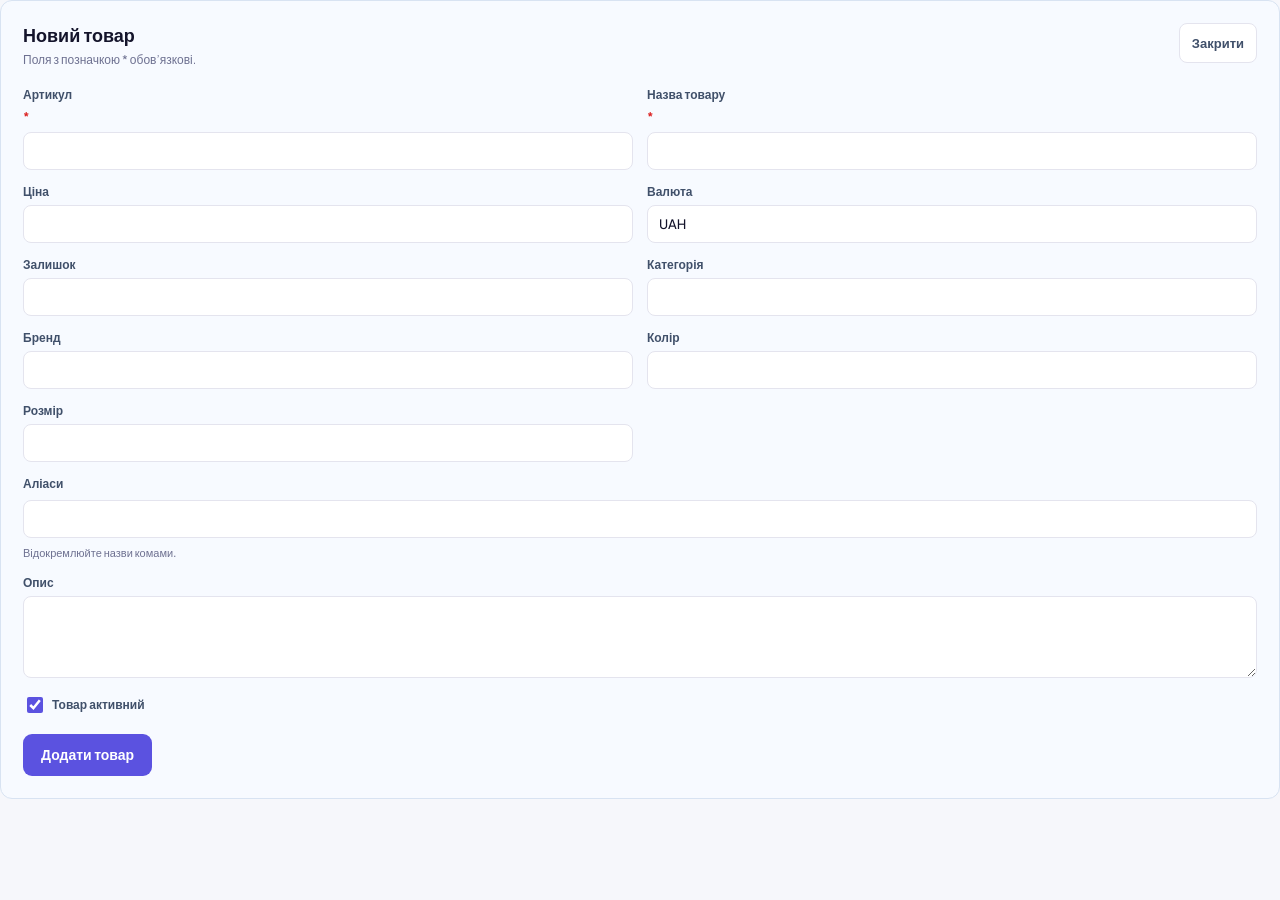
Scenario: ProductEditor › shows a safe error message when saving fails
In the field labelled "Артикул": (328, 151) top-left (23, 132), bottom-right (633, 170), type "LUNA-01"
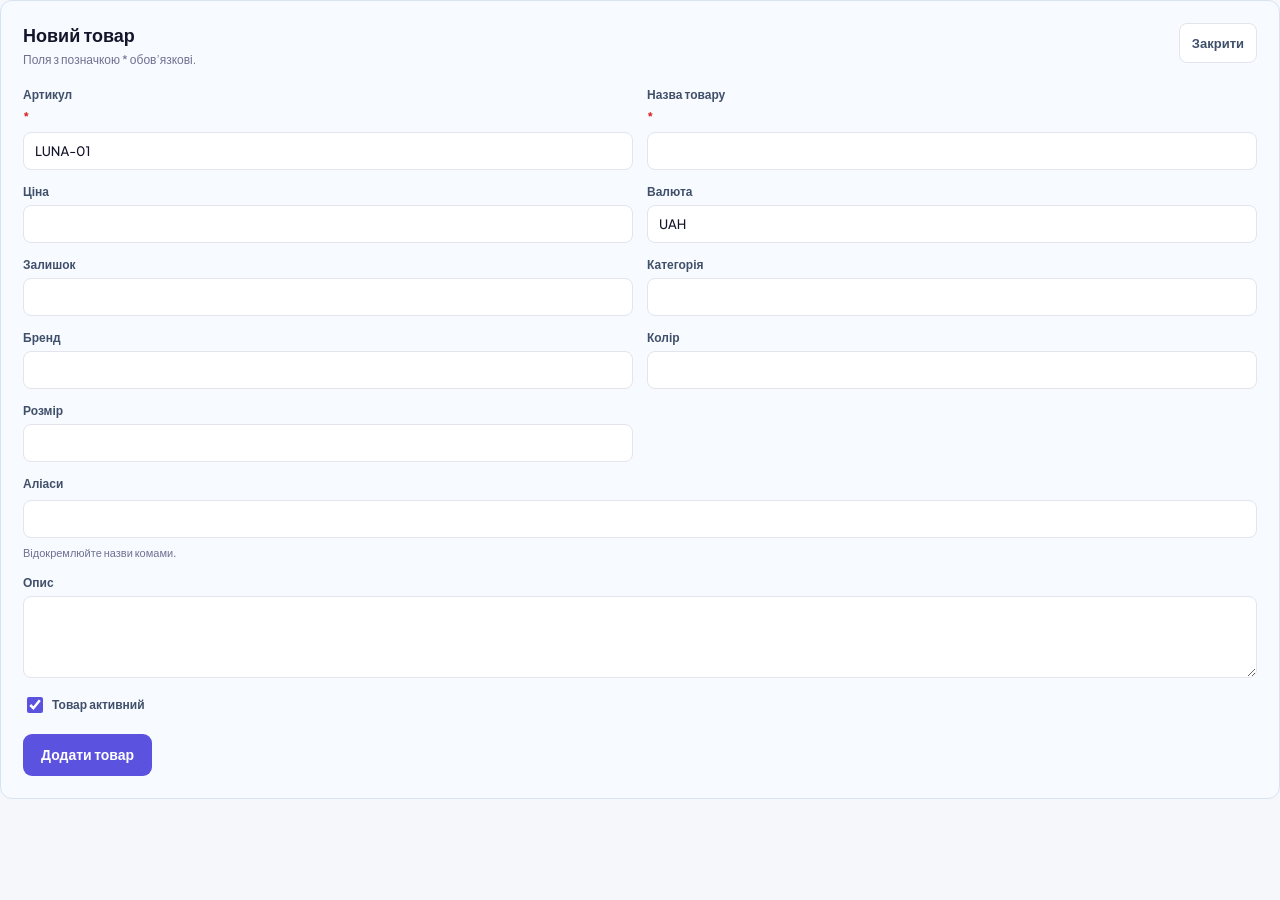
In the field labelled "Назва товару": (952, 151) top-left (647, 132), bottom-right (1257, 170), type "Сукня Luna"
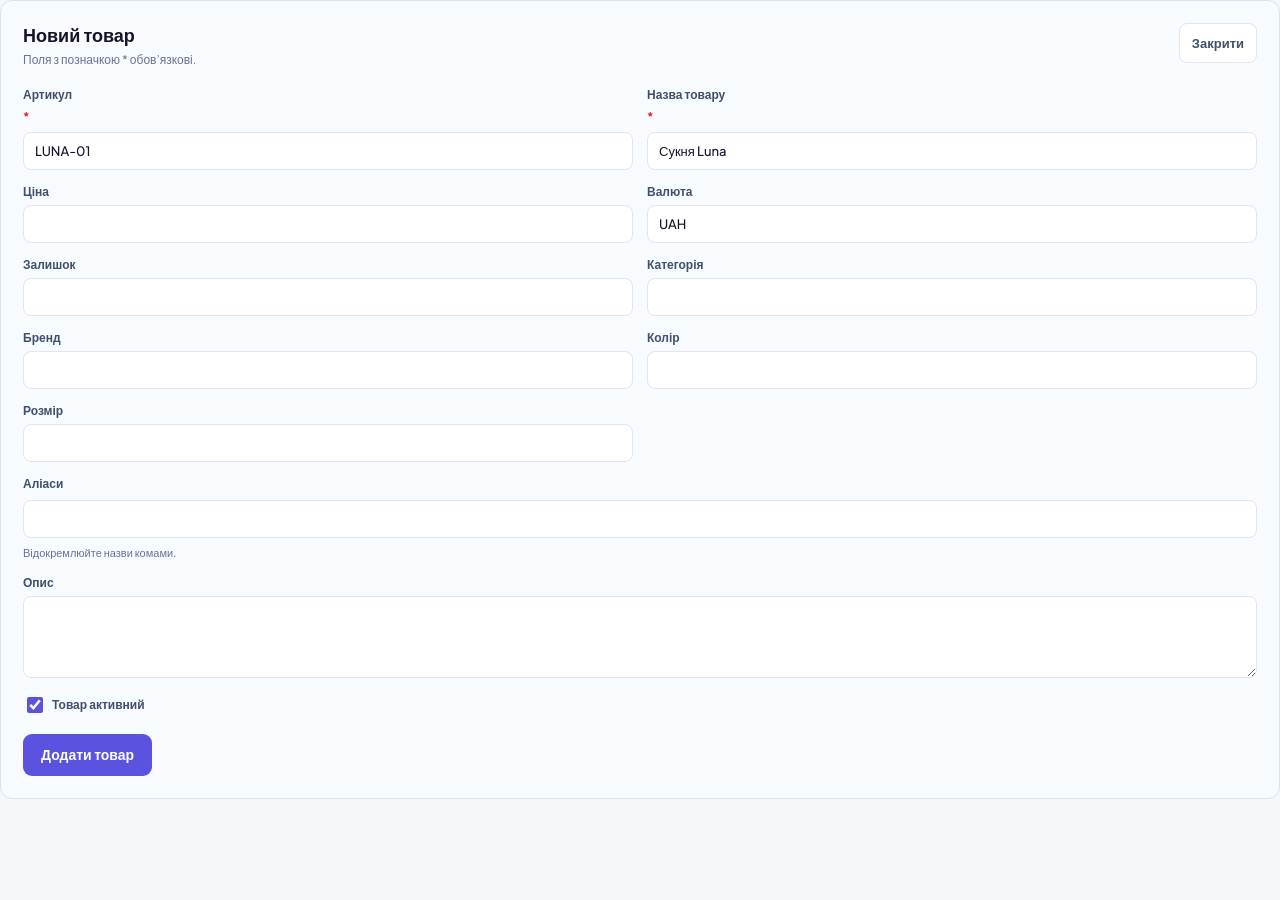
Click the button "Додати товар": (88, 754) top-left (23, 734), bottom-right (152, 776)
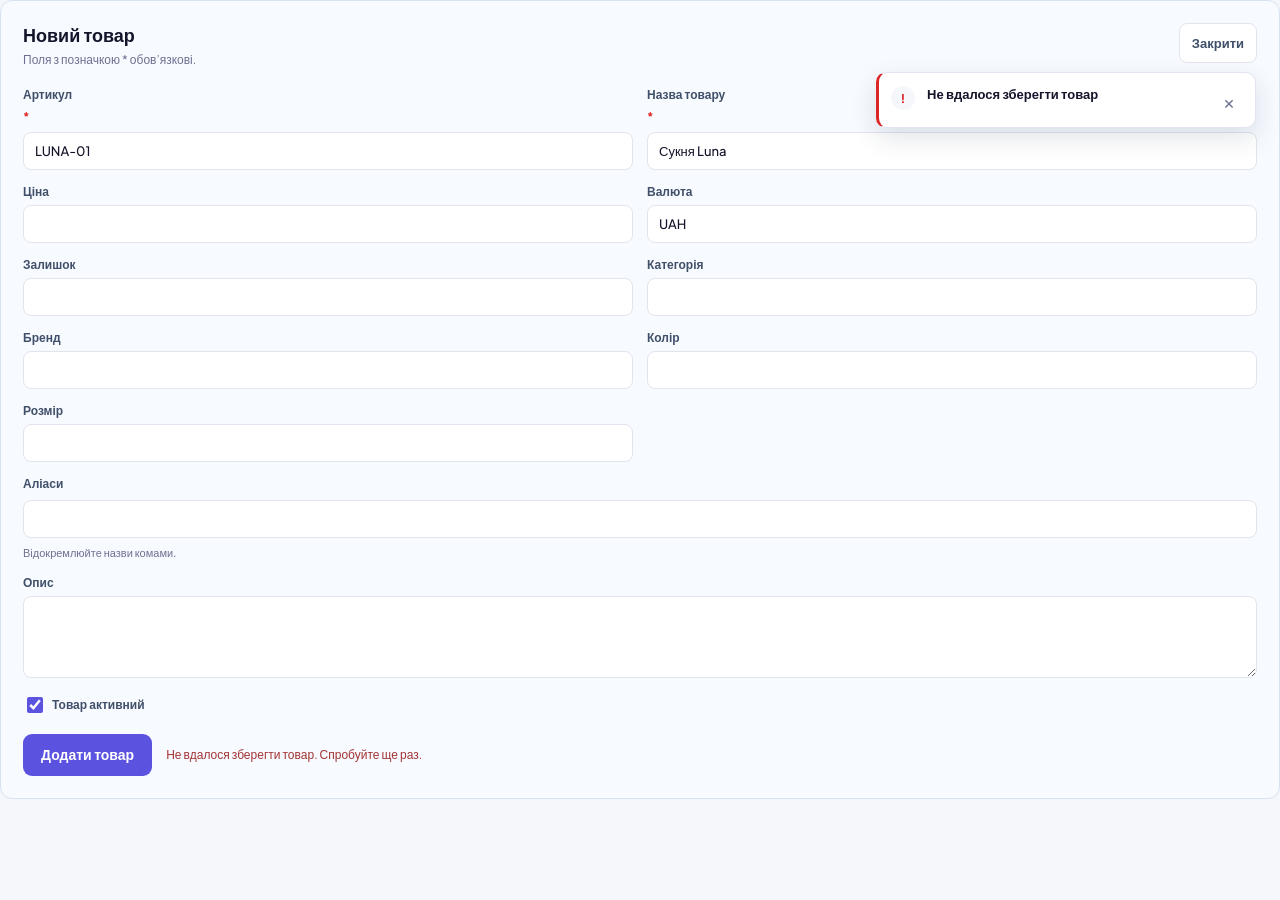
Result: the message "Не вдалося зберегти товар. Спробуйте ще раз." is shown at top-left (166, 747), bottom-right (422, 762)
